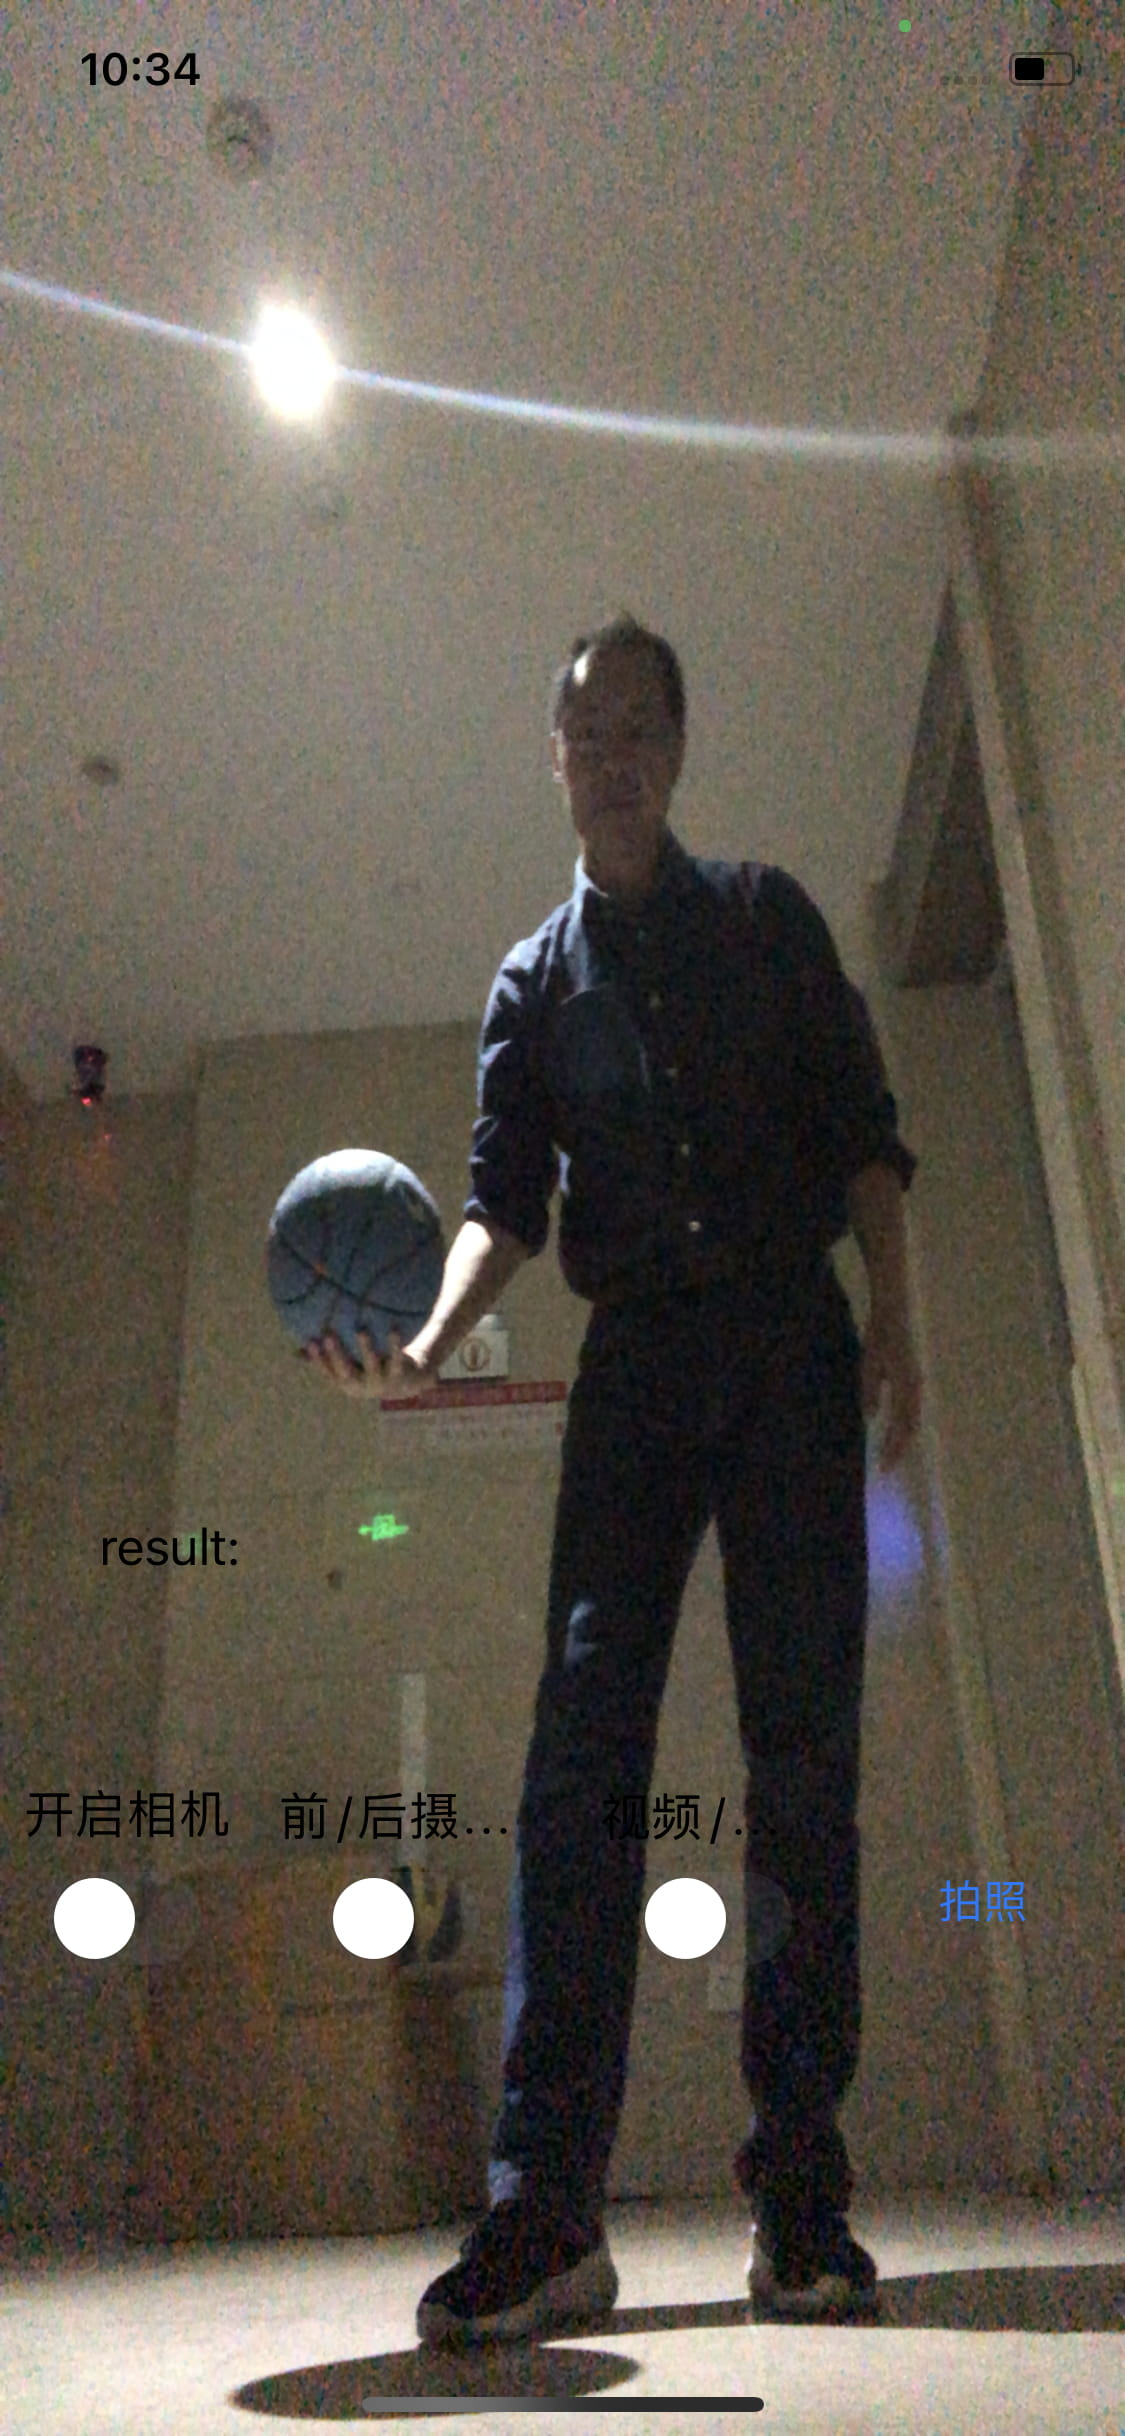ball: (269, 1150, 443, 1362)
